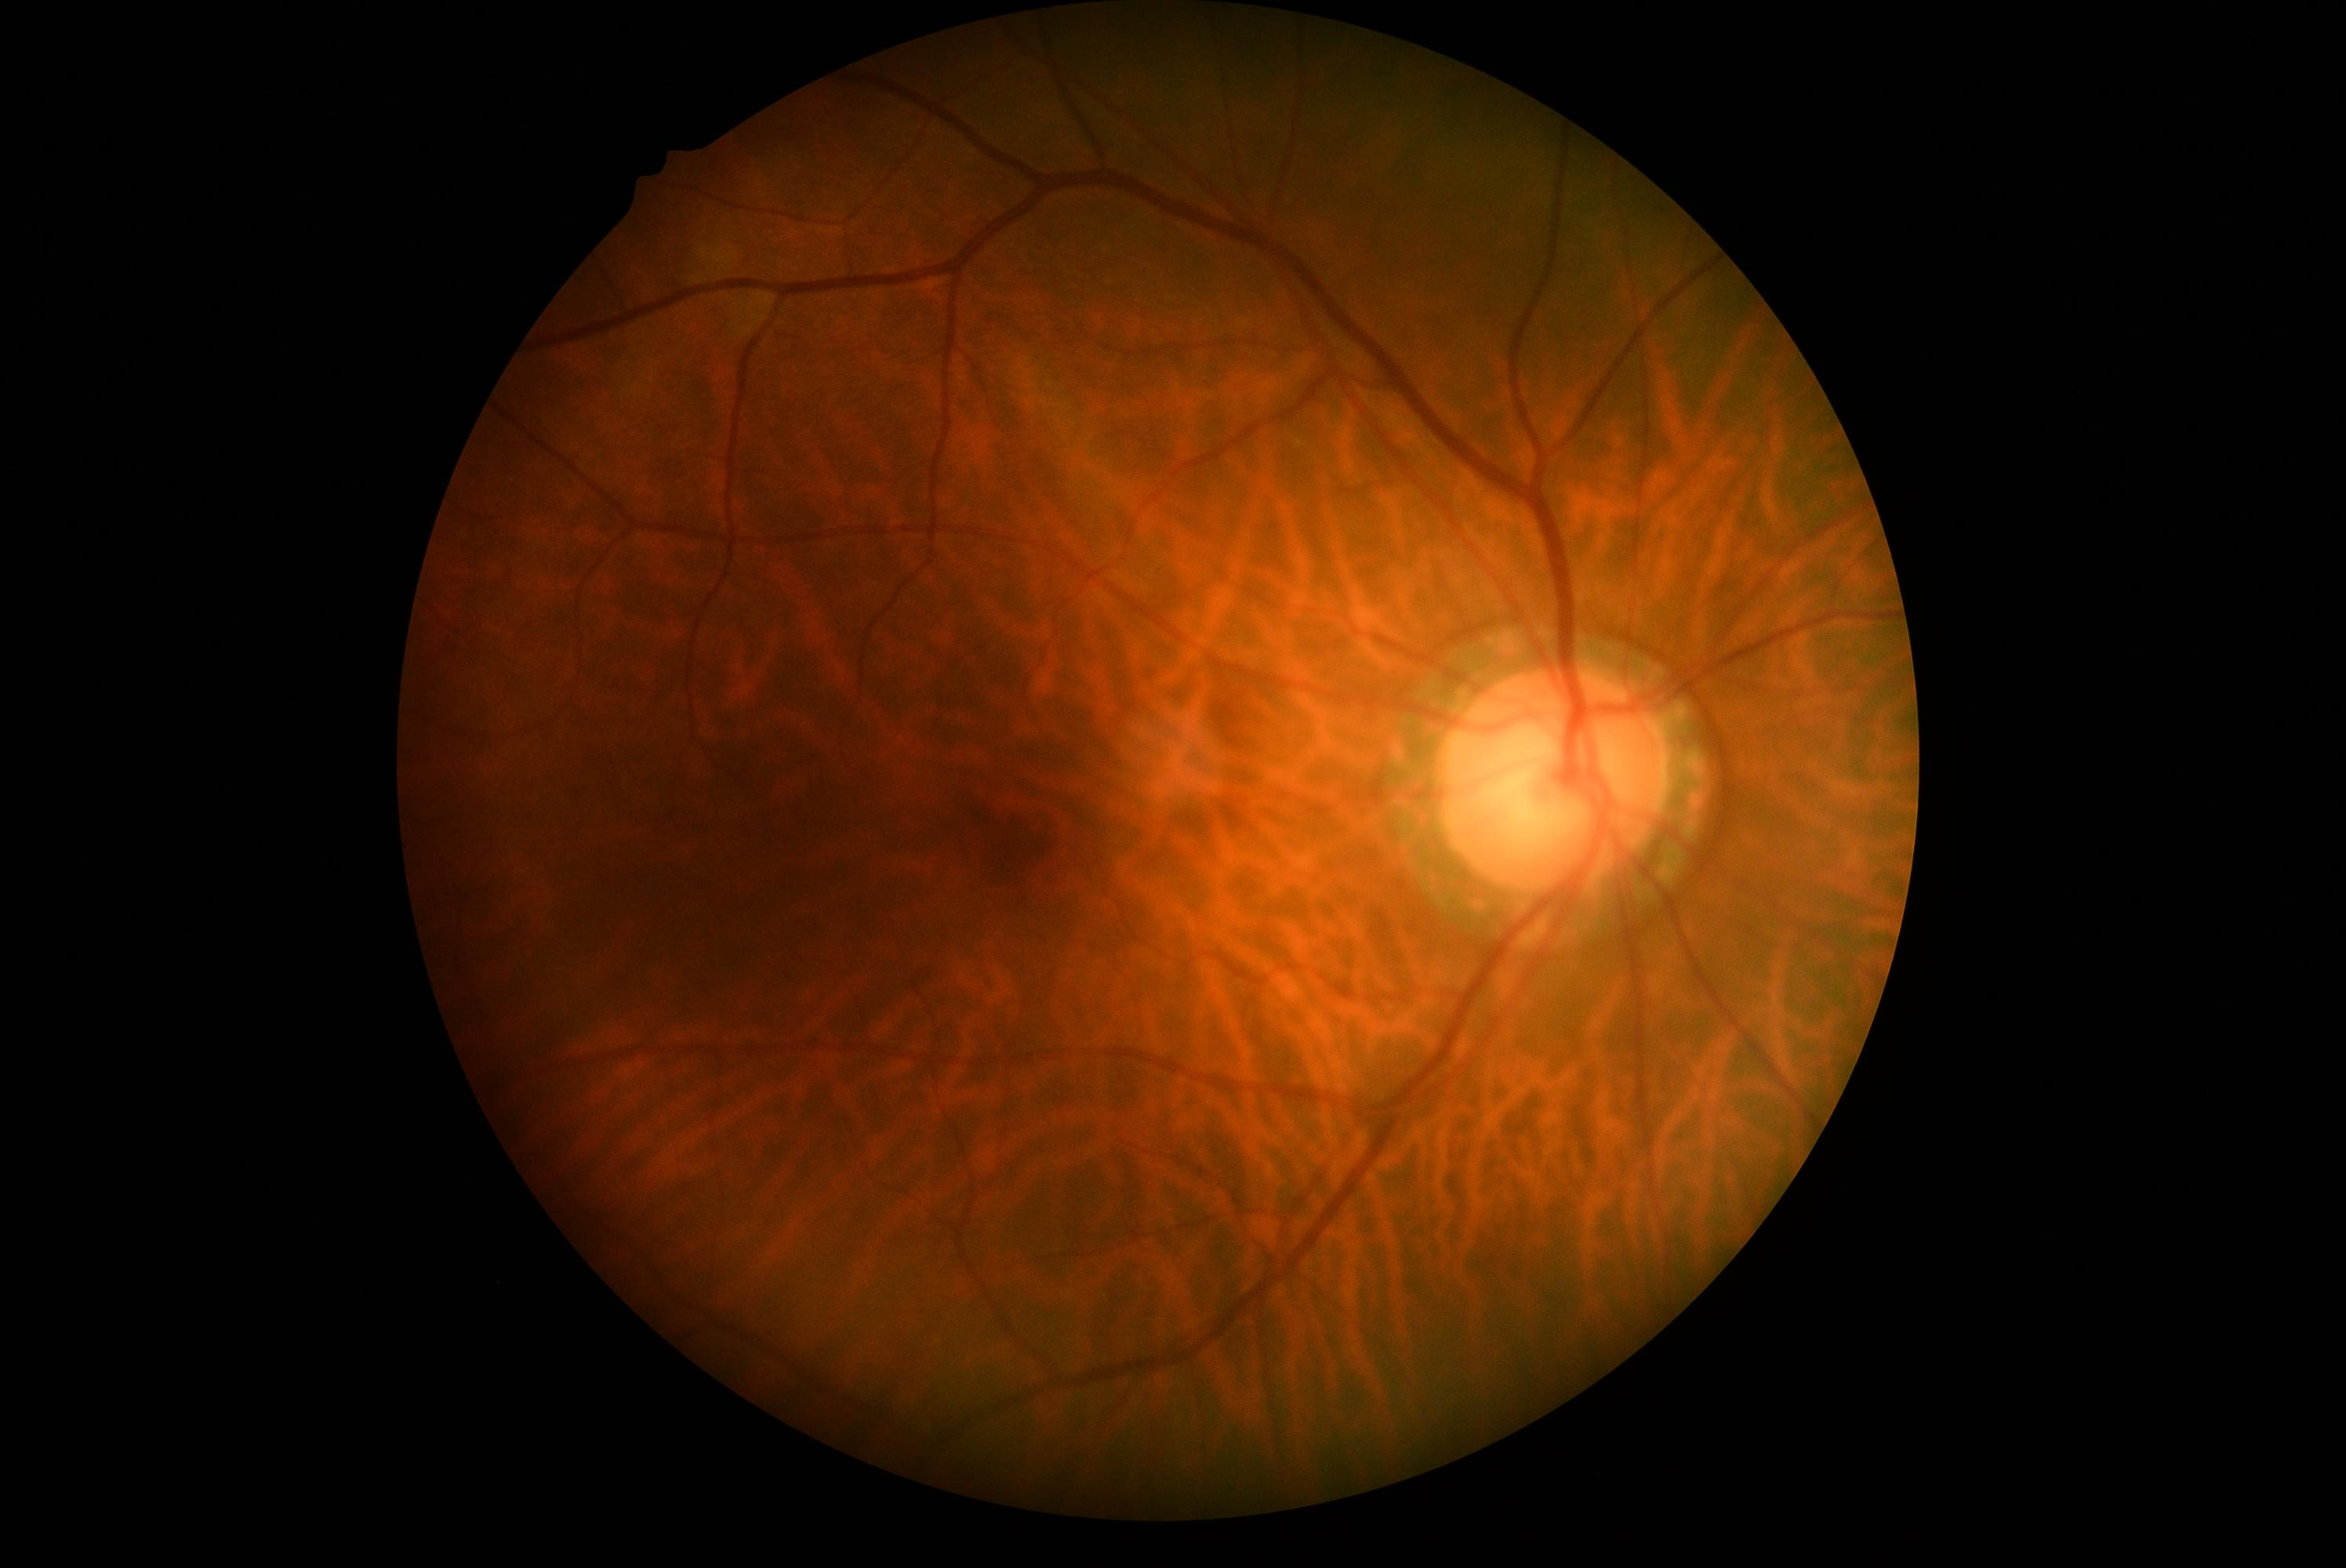Fovea: (927, 758, 1074, 903)
